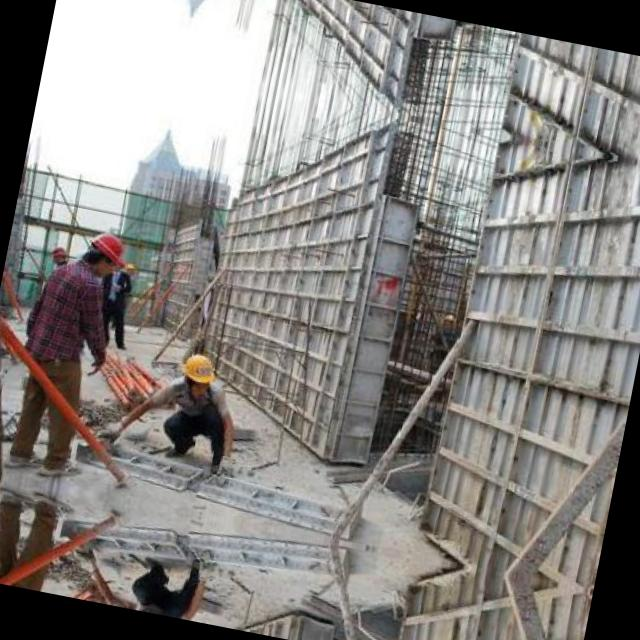helmet: (82, 224, 130, 276), (180, 350, 220, 397), (50, 240, 71, 266)
